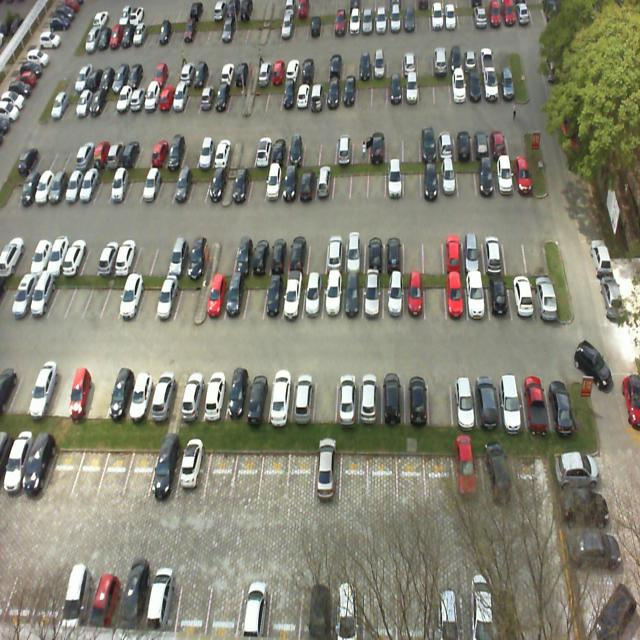space-empty: (94, 445, 132, 502), (123, 442, 157, 502), (43, 445, 79, 499), (71, 446, 106, 501), (231, 451, 264, 505), (204, 448, 238, 498), (259, 448, 291, 500), (83, 371, 112, 421), (288, 449, 314, 504), (136, 267, 162, 321), (428, 375, 454, 429), (312, 372, 336, 428), (174, 272, 198, 324), (101, 270, 125, 320), (241, 275, 265, 325), (130, 236, 156, 276), (505, 227, 527, 273), (525, 229, 549, 271), (148, 237, 172, 278), (188, 164, 211, 206), (425, 229, 445, 276), (155, 165, 177, 207), (404, 226, 424, 272), (426, 276, 446, 322), (213, 239, 235, 275), (307, 234, 327, 273), (458, 162, 478, 198), (250, 166, 268, 204), (368, 162, 386, 200), (333, 165, 350, 201), (403, 163, 421, 197), (351, 164, 367, 198)
space-occupied: (148, 444, 182, 500), (545, 370, 576, 426), (175, 445, 209, 495), (312, 451, 342, 507), (223, 370, 254, 424), (21, 446, 55, 494), (499, 373, 527, 431), (64, 367, 93, 421), (476, 372, 502, 429), (523, 371, 549, 428), (222, 272, 249, 326), (117, 271, 145, 323), (452, 374, 479, 426), (106, 371, 134, 421), (268, 373, 294, 425), (154, 274, 180, 324), (127, 370, 153, 420), (203, 370, 229, 420), (246, 372, 272, 422), (262, 270, 286, 324), (530, 270, 557, 318), (148, 374, 175, 422), (359, 371, 382, 426), (405, 374, 429, 426), (335, 373, 359, 423), (290, 372, 313, 424), (382, 371, 405, 423), (486, 273, 511, 320), (483, 227, 507, 275), (181, 373, 206, 419), (443, 226, 466, 273), (205, 273, 225, 327), (113, 238, 140, 276), (303, 276, 324, 324), (167, 238, 193, 276), (467, 275, 488, 322), (509, 276, 531, 320), (322, 277, 343, 323), (444, 277, 467, 319), (282, 276, 302, 324), (188, 239, 212, 278), (172, 165, 194, 207), (139, 165, 162, 205), (511, 156, 534, 196), (363, 276, 383, 322), (404, 274, 424, 320), (382, 231, 404, 272), (204, 166, 226, 206), (287, 234, 309, 274), (464, 228, 484, 272), (231, 164, 252, 205), (229, 238, 251, 277), (251, 235, 273, 273), (345, 231, 364, 275), (384, 276, 402, 322), (268, 236, 290, 272), (345, 275, 362, 321), (324, 235, 344, 273), (364, 235, 383, 273), (478, 158, 496, 198), (299, 166, 317, 205), (283, 164, 300, 205), (494, 160, 514, 194), (267, 166, 283, 207), (422, 163, 440, 197), (388, 162, 404, 200), (440, 162, 458, 195), (316, 166, 332, 200)
